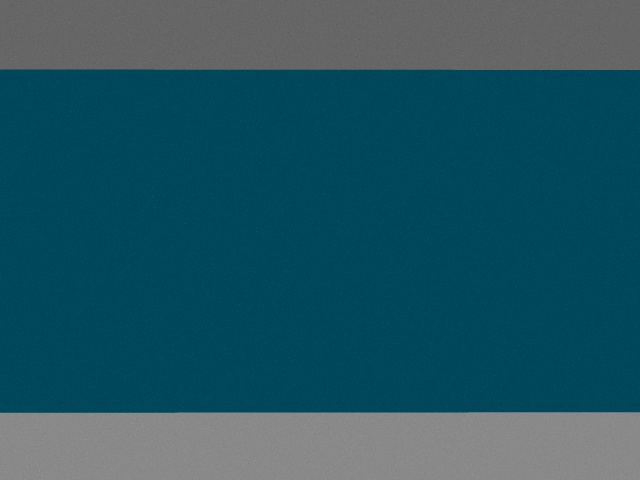blue_drop_zone: (0, 69, 640, 413)
